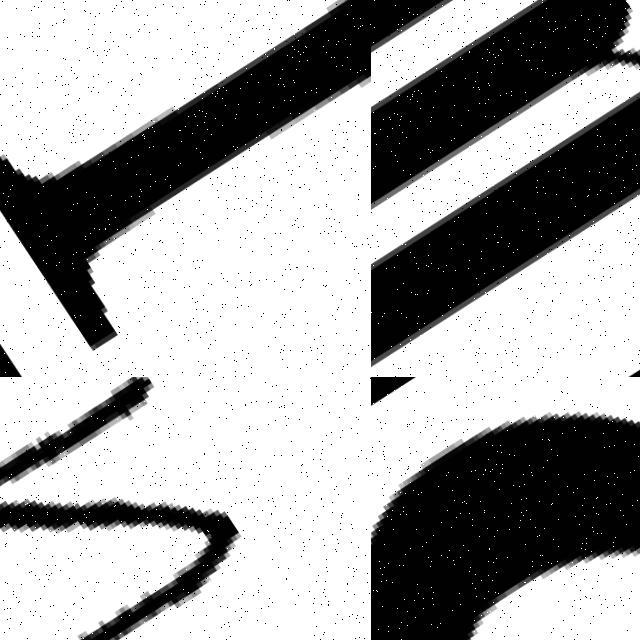1: (0, 0, 371, 369)
M: (371, 0, 640, 377), (0, 377, 371, 640)
O: (371, 377, 640, 640)
